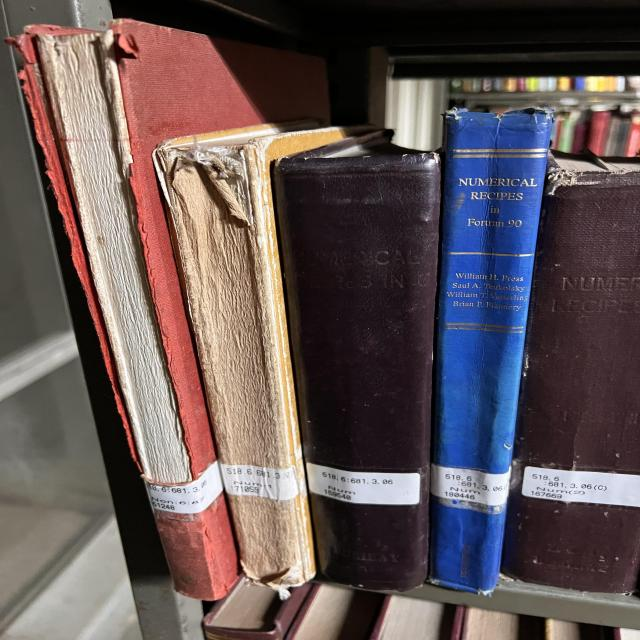Book: (13, 20, 262, 600), (153, 124, 368, 590), (275, 131, 440, 591), (502, 154, 640, 592), (430, 109, 552, 594)
Label: (522, 466, 640, 508), (307, 462, 420, 505), (145, 461, 223, 514), (432, 464, 510, 506), (220, 464, 298, 500)
